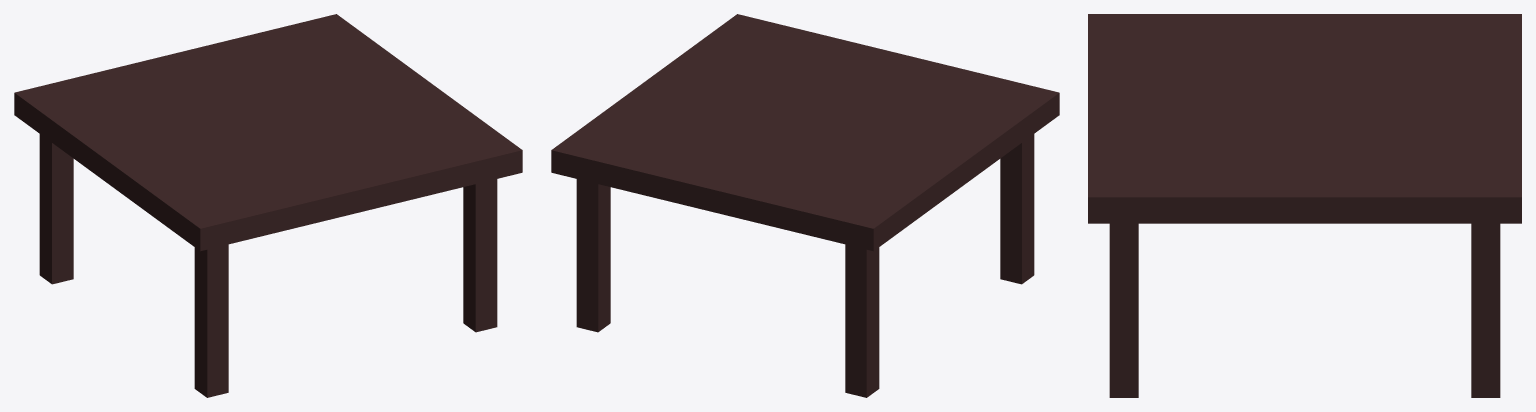
The model's file is Dining Table.fbx.
3 renders of one model, left to right at view 1: azimuth 30°, elevation 25°; view 2: azimuth 150°, elevation 25°; view 3: azimuth 270°, elevation 25°, orthographic. The views are drawn at different scales.
Visible parts, largest first — view 1: Table1, Cube.026, Cube.025, Cube.017; view 2: Table1, Cube.017, Cube.018, Cube.026; view 3: Table1, Cube.018, Cube.025.
Part boxes in pixels (x1,y1,x2,y2): Table1: [14, 14, 522, 251]; Cube.026: [194, 244, 228, 397]; Cube.025: [463, 179, 497, 332]; Cube.017: [39, 134, 73, 284]; Table1: [551, 14, 1059, 251]; Cube.017: [845, 244, 879, 397]; Cube.018: [576, 179, 610, 332]; Cube.026: [1000, 134, 1034, 284]; Table1: [1088, 14, 1521, 223]; Cube.018: [1471, 223, 1500, 397]; Cube.025: [1109, 223, 1138, 397].
Bounding box in the file's own units: 300 × 160 × 300.
